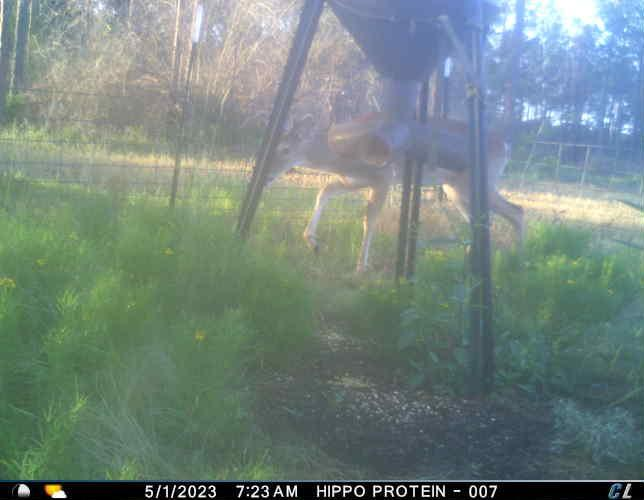Deer: (253, 106, 528, 278)
